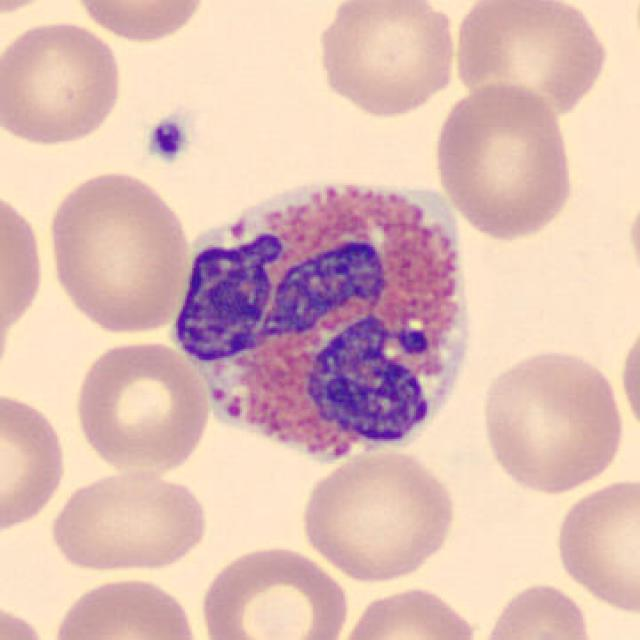Eosinophil: (162, 157, 487, 483)
Platelets: (142, 113, 192, 166)
RBC: (43, 166, 194, 337), (428, 80, 580, 242), (295, 444, 461, 586), (474, 344, 628, 495), (70, 337, 214, 478), (448, 0, 613, 120), (46, 466, 212, 576), (313, 0, 460, 120), (0, 16, 126, 150), (195, 539, 352, 640), (549, 474, 640, 617), (0, 386, 71, 538), (46, 573, 205, 640), (0, 182, 48, 365), (334, 582, 480, 640), (475, 578, 597, 640), (68, 0, 210, 46), (615, 312, 640, 443), (0, 597, 53, 640), (624, 180, 640, 301), (0, 0, 66, 18)
